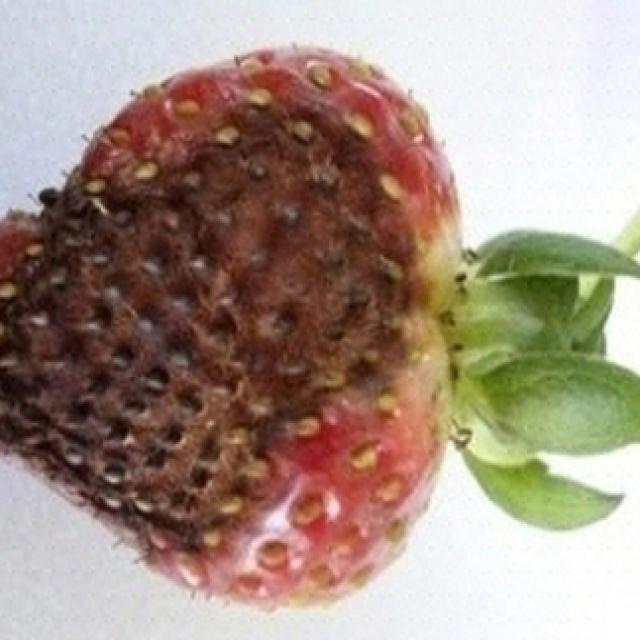Anthracnose Fruit Rot: (0, 83, 433, 576)
